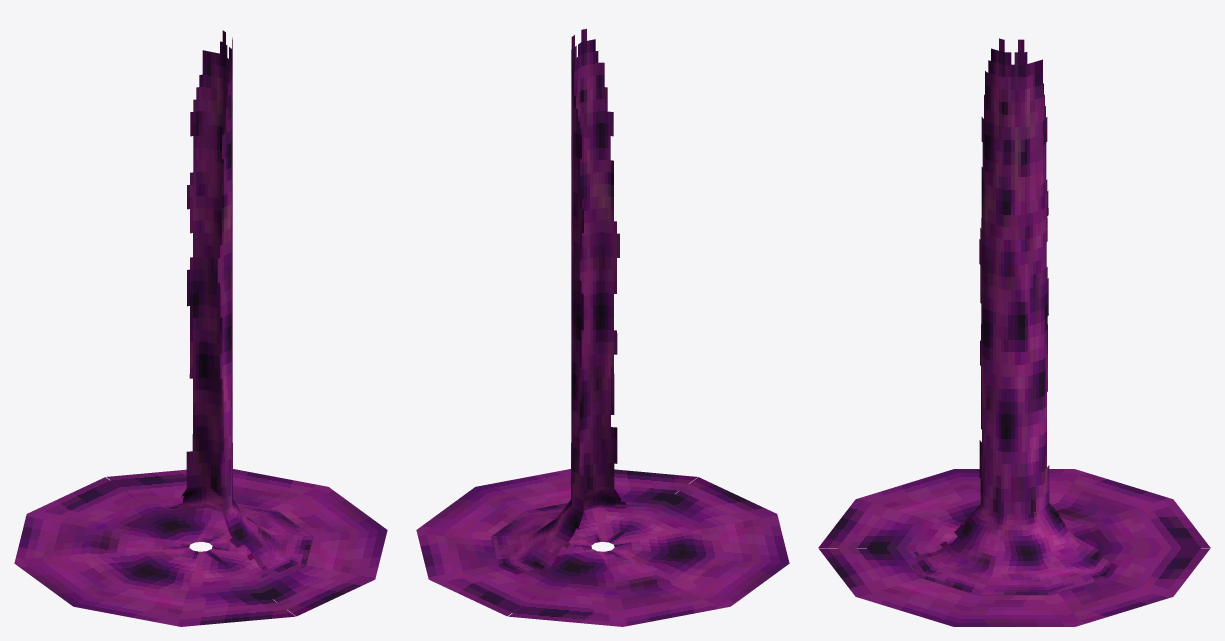
The model's file is eff_enem_MA_Duon_Kagemusi2_pori_S04_M.obj.
3 views of the same model, side by side, from view 1: azimuth 30°, elevation 25°; view 2: azimuth 150°, elevation 25°; view 3: azimuth 270°, elevation 25° (orthographic). The views are drawn at different scales.
Visible parts, largest first — view 1: polygon0, polygon1; view 2: polygon0, polygon1; view 3: polygon1, polygon0.
Part boxes in pixels (x1,y1,x2,y2): polygon0: [14, 469, 387, 626]; polygon1: [167, 30, 312, 577]; polygon0: [416, 469, 789, 626]; polygon1: [491, 29, 638, 574]; polygon1: [911, 38, 1117, 595]; polygon0: [818, 469, 1210, 626].
Bounding box in the file's own units: 7.39 × 11.66 × 7.77.
Materials: 2 (2 with a texture image).
